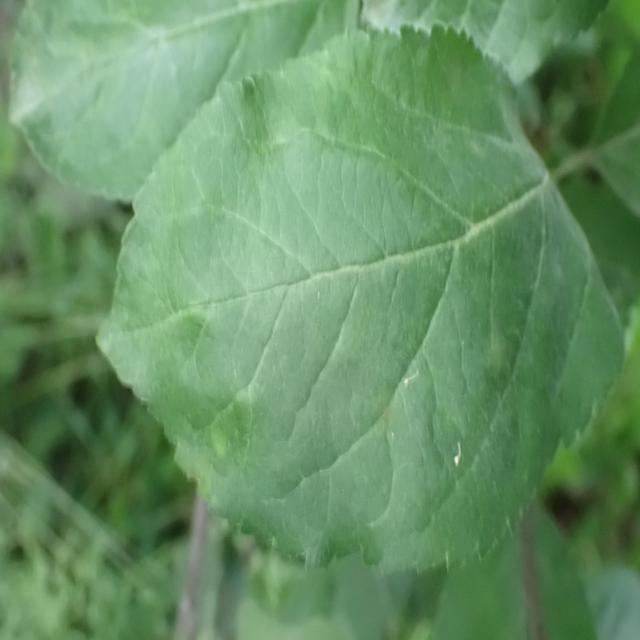scab: (146, 162, 582, 468)
